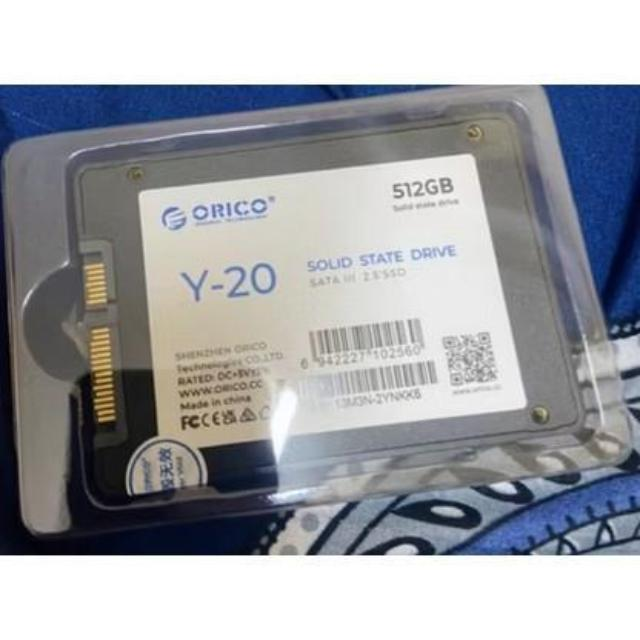DISK: (68, 138, 590, 512)
